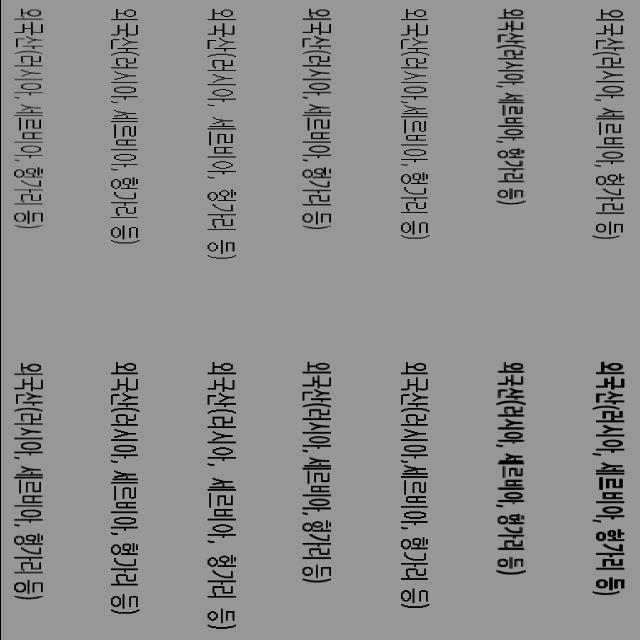bold: (583, 354, 637, 598), (0, 359, 50, 603), (389, 360, 437, 610), (198, 360, 242, 632), (102, 360, 146, 616), (489, 358, 533, 576), (295, 360, 337, 586)
normal: (385, 5, 441, 241), (192, 5, 242, 265), (96, 3, 148, 246), (0, 4, 55, 232), (286, 6, 338, 232), (582, 6, 632, 240), (487, 9, 537, 206)
